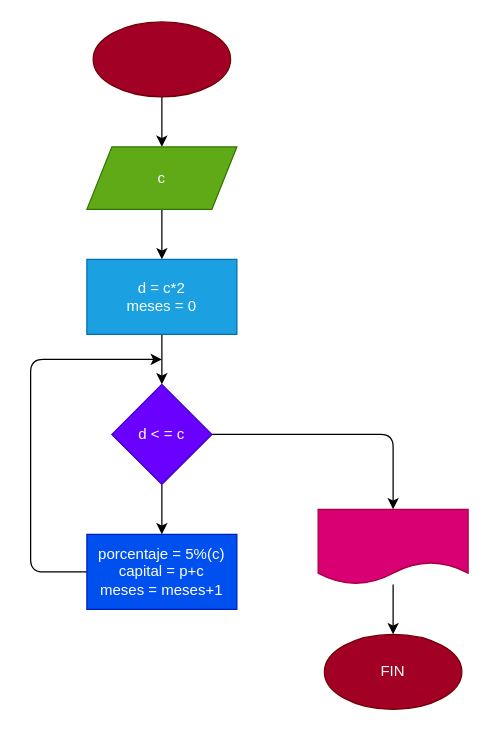
The diagram is 490 pixels wide and 731 high, and some of its shapes have lost their labels. Here are the shapes that lost their labels. From the top down, the box of each, then its label:
(92, 21, 231, 97): INICIO
(317, 508, 468, 584): número_de_meses
